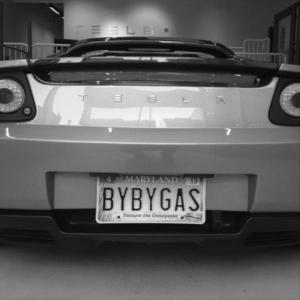Plate: (96, 174, 206, 225)
